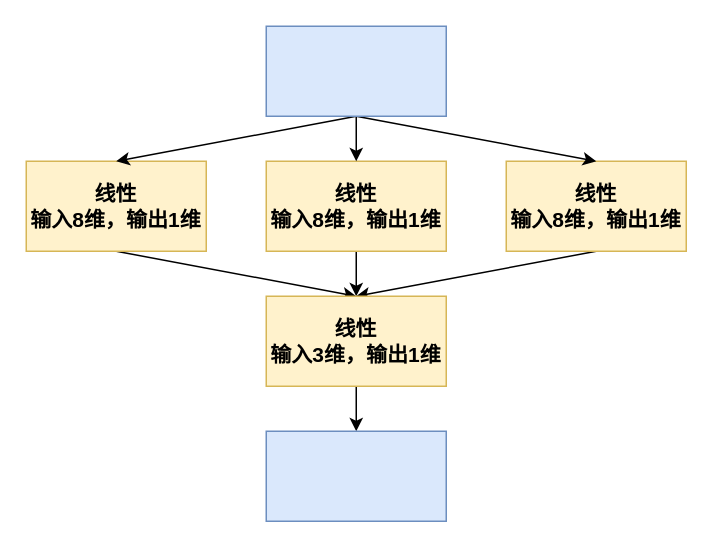
This 713x548 diagram has some shape labels left out. The centre of each missing label's shape, as x and y in pixels:
输入： 8个状态变量: (x=355, y=70)
输出： 1个动作变量: (x=355, y=475)
